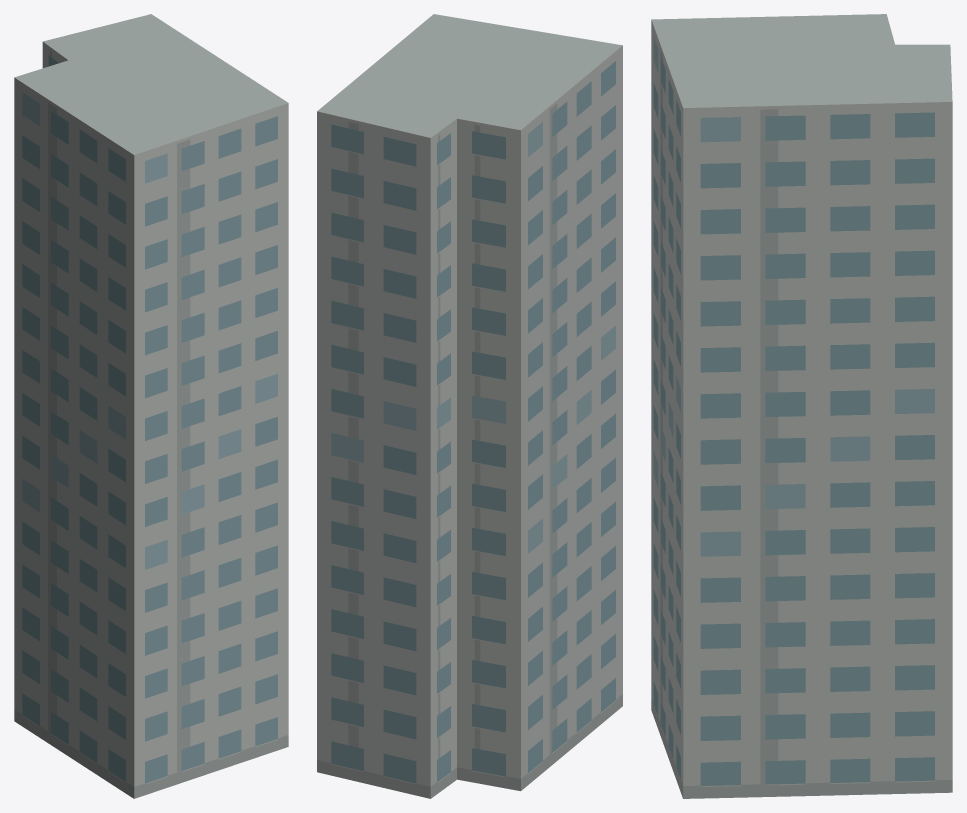
Rendered from residential-e34d4991-f00f-443c-b9e1-ccd9020ce5af.glb.
3 views of the same model, side by side, from view 1: azimuth 30°, elevation 25°; view 2: azimuth 150°, elevation 25°; view 3: azimuth 270°, elevation 25° (orthographic). The views are drawn at different scales.
Parts seen in each view (by area): view 1: residential-e34d4991-f00f-443c-b9e1-ccd9020ce5af.tmp; view 2: residential-e34d4991-f00f-443c-b9e1-ccd9020ce5af.tmp; view 3: residential-e34d4991-f00f-443c-b9e1-ccd9020ce5af.tmp.
Part boxes in pixels (x1,y1,x2,y2): residential-e34d4991-f00f-443c-b9e1-ccd9020ce5af.tmp: (14, 14, 288, 798); residential-e34d4991-f00f-443c-b9e1-ccd9020ce5af.tmp: (317, 14, 622, 798); residential-e34d4991-f00f-443c-b9e1-ccd9020ce5af.tmp: (651, 14, 952, 798).
Size of the model in its own units: 14.91 by 51 by 20.16.
